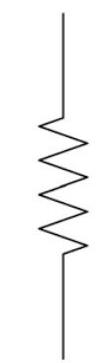resistor: (25, 93, 97, 269)
